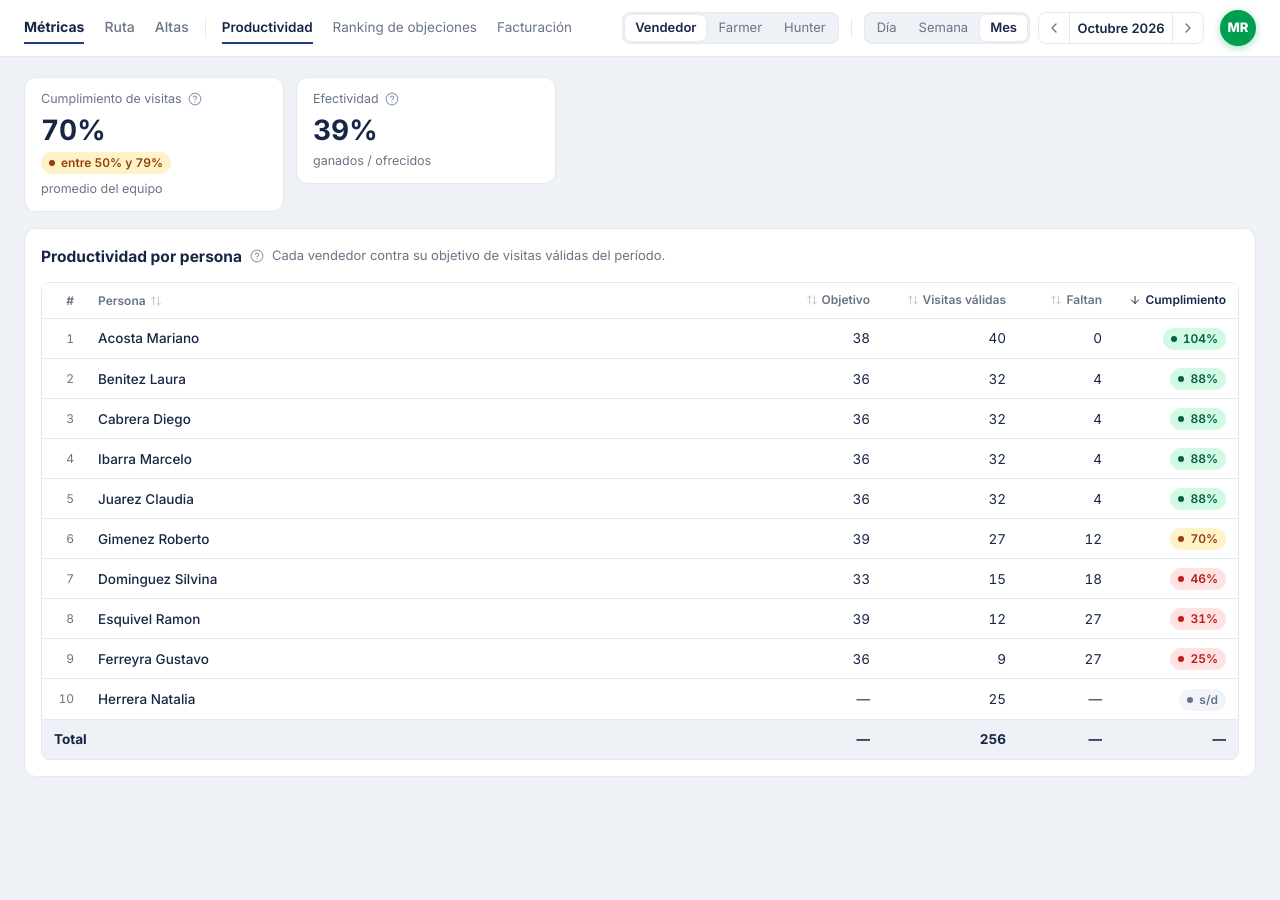
Productividad (vista por defecto) › una ayuda explica cómo sale el objetivo de cada uno, según el período
Expected: the row with test id "fila-productividad-V1" is shown, [42,319,1238,359]
Click the button named "Cómo se calcula el objetivo" at (257, 256), box [250,249,264,263]
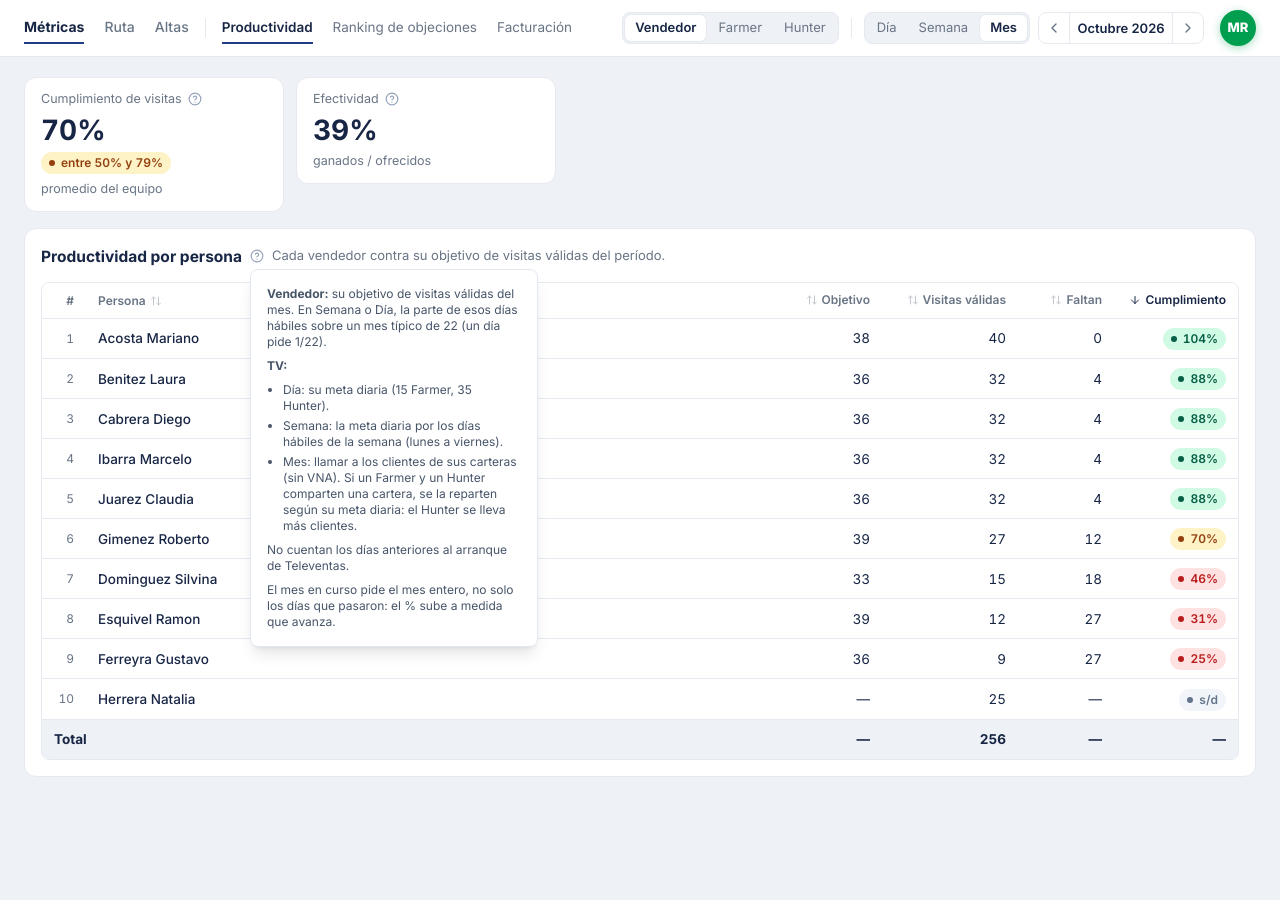
Expected: the dialog shows "clientes de sus carteras", [283,454,517,533]
Expected: the dialog shows "según su meta diaria", [283,454,517,533]
Expected: the dialog shows "Día: su meta diaria (15 Farmer, 35 Hunter)", [283,382,472,413]
